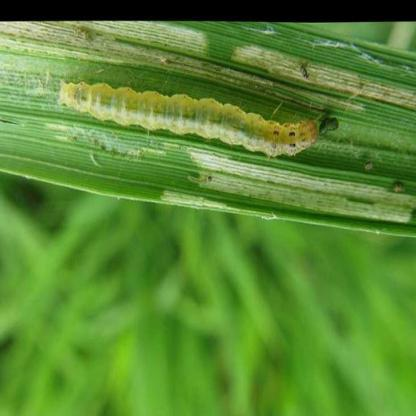leaf-folder: (59, 69, 342, 173)
